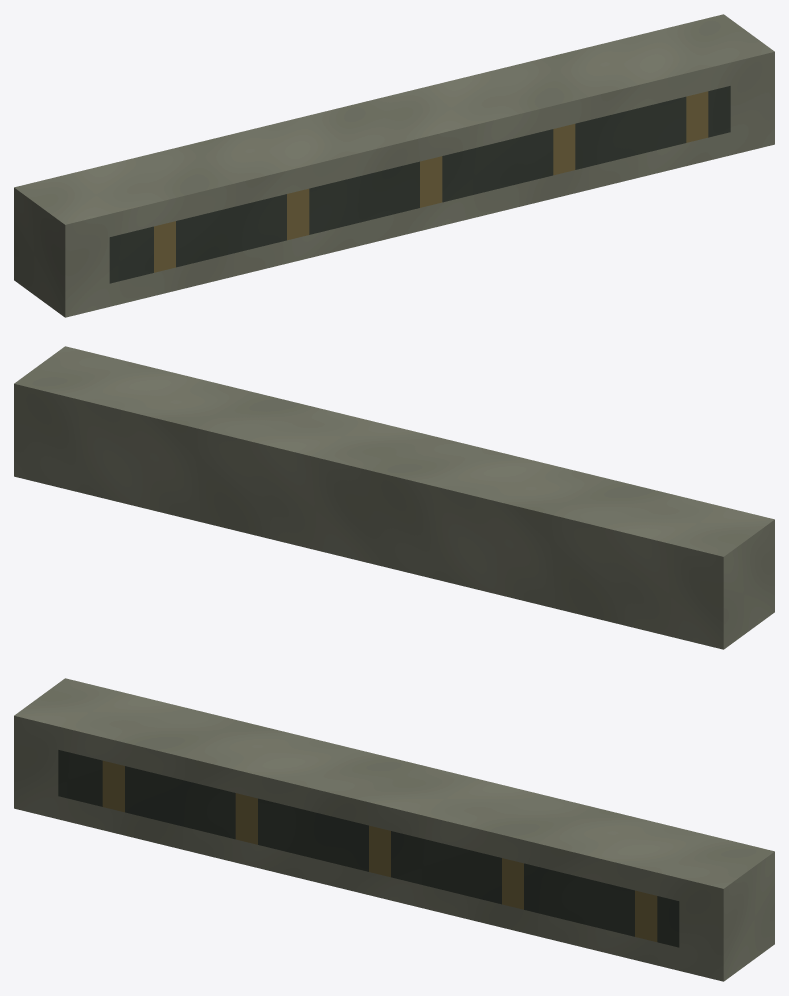
File: LINTEL_A.glb
The picture shows the model from 3 angles, top to bottom: view 1: azimuth 30°, elevation 25°; view 2: azimuth 150°, elevation 25°; view 3: azimuth 330°, elevation 25°; orthographic projection.
Parts seen in each view (by area): view 1: LINTEL_A; view 2: LINTEL_A; view 3: LINTEL_A.
Part boxes in pixels (x1,y1,x2,y2): LINTEL_A: [14, 14, 774, 317]; LINTEL_A: [14, 346, 774, 649]; LINTEL_A: [14, 678, 774, 981].
Size of the model in its own units: 4 by 0.5 by 0.5.
Materials: 3 (2 with a texture image).
